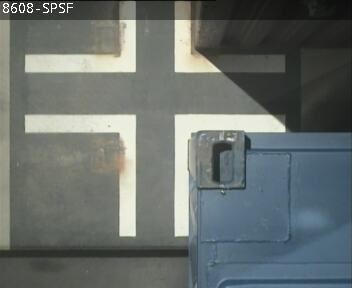groundmarker_1: (24, 114, 285, 235), (25, 3, 284, 71)
